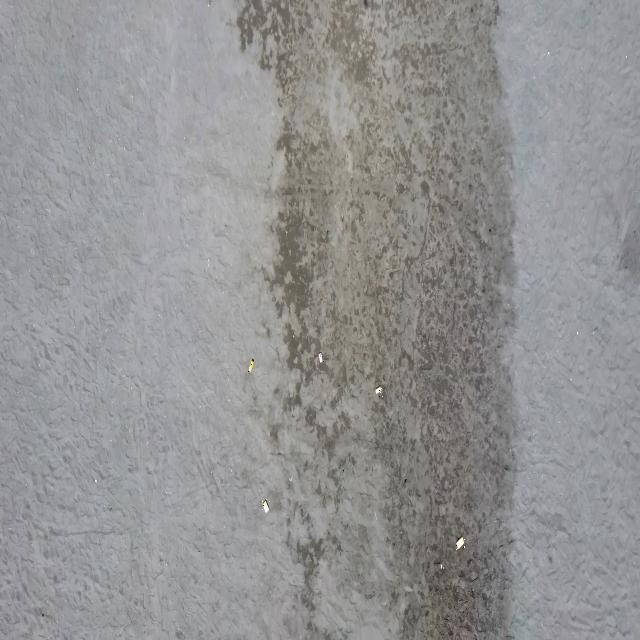Garbage: (313, 352, 324, 366), (455, 536, 464, 548), (260, 497, 267, 512), (247, 357, 253, 372), (375, 386, 383, 396), (316, 352, 323, 363), (440, 563, 443, 568)
